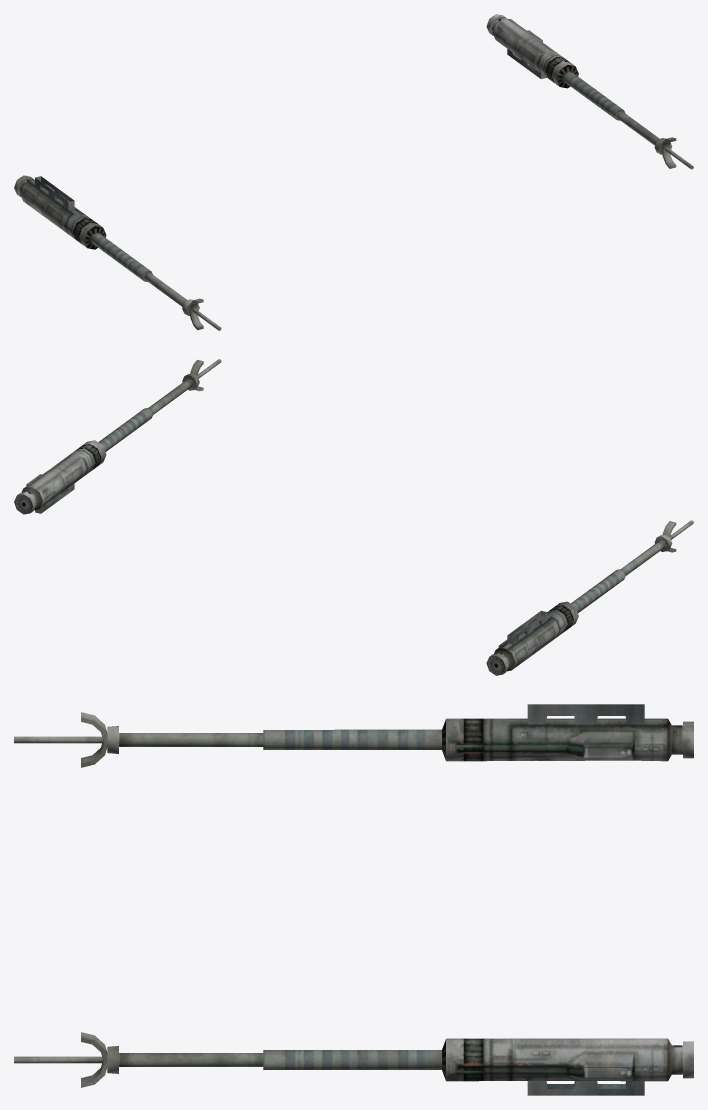
Rendered from xwing_weapon1_neg_s01_l0.fbx.
The picture shows the model from 3 angles, top to bottom: view 1: azimuth 30°, elevation 25°; view 2: azimuth 150°, elevation 25°; view 3: azimuth 270°, elevation 25°; orthographic projection. The views are drawn at different scales.
Visible parts, largest first — view 1: mesh_node; view 2: mesh_node; view 3: mesh_node.
Boxes of the visible parts, x1,y1,x2,y2 form: mesh_node: (14, 14, 693, 330); mesh_node: (14, 359, 693, 675); mesh_node: (14, 704, 693, 1095).
Size of the model in its own units: 13.13 by 1.89 by 8.94.
1 material, 1 textured.
